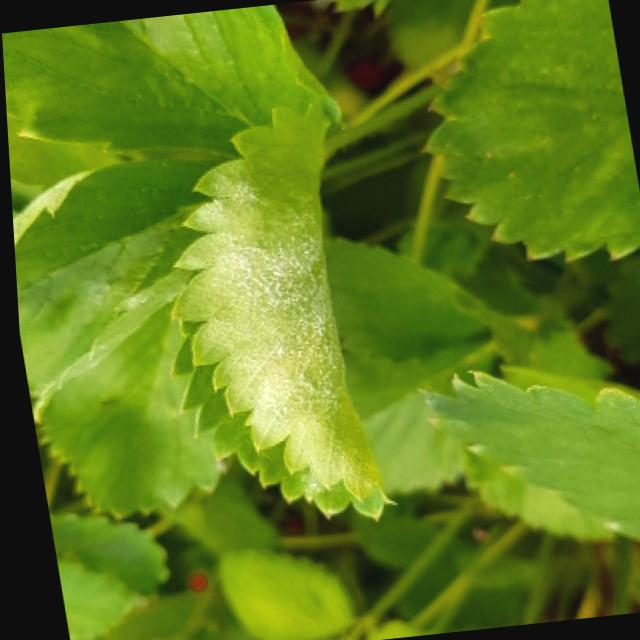Powdery Mildew Leaf: (168, 91, 393, 523), (10, 158, 210, 397)
